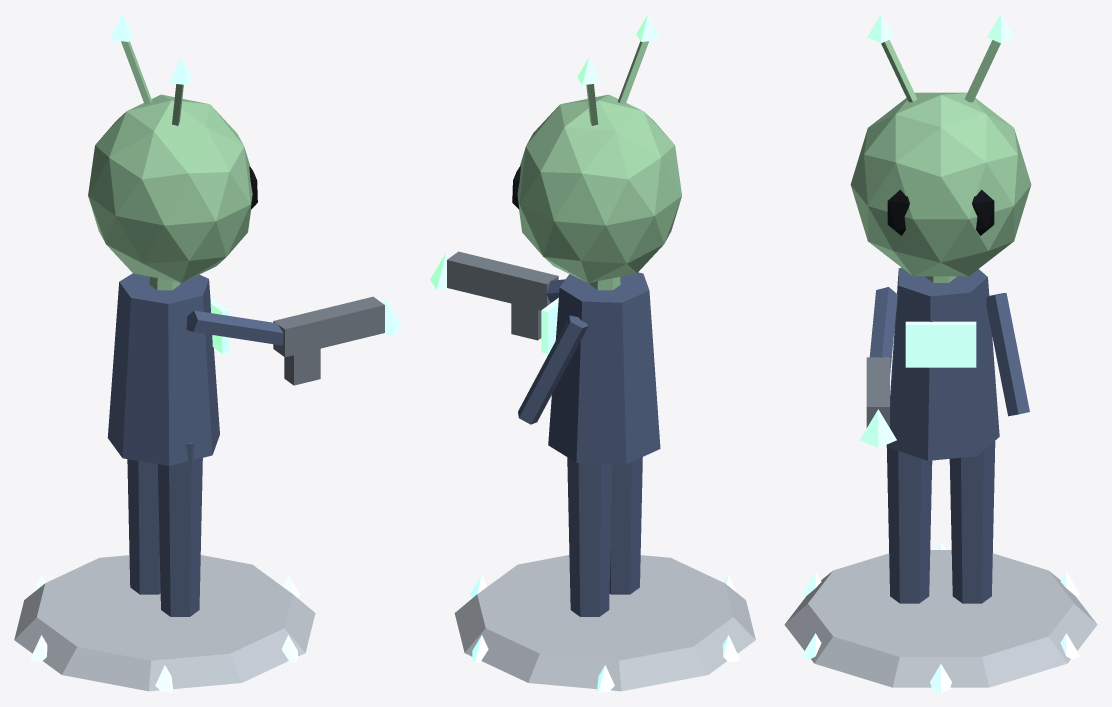
The model's file is alien.glb.
The picture shows the model from 3 angles, left to right: view 1: azimuth 30°, elevation 25°; view 2: azimuth 150°, elevation 25°; view 3: azimuth 270°, elevation 25°; orthographic projection.
Visible parts, largest first — view 1: Kropp, Skiva; view 2: Kropp, Skiva; view 3: Kropp, Skiva.
Part boxes in pixels (bbox=[...]): Kropp: bbox=[88, 14, 401, 616]; Skiva: bbox=[14, 555, 315, 692]; Kropp: bbox=[430, 14, 681, 616]; Skiva: bbox=[454, 555, 755, 692]; Kropp: bbox=[850, 14, 1031, 603]; Skiva: bbox=[784, 541, 1097, 692].
Bounding box in the file's own units: 1.02 × 1.77 × 0.8.
